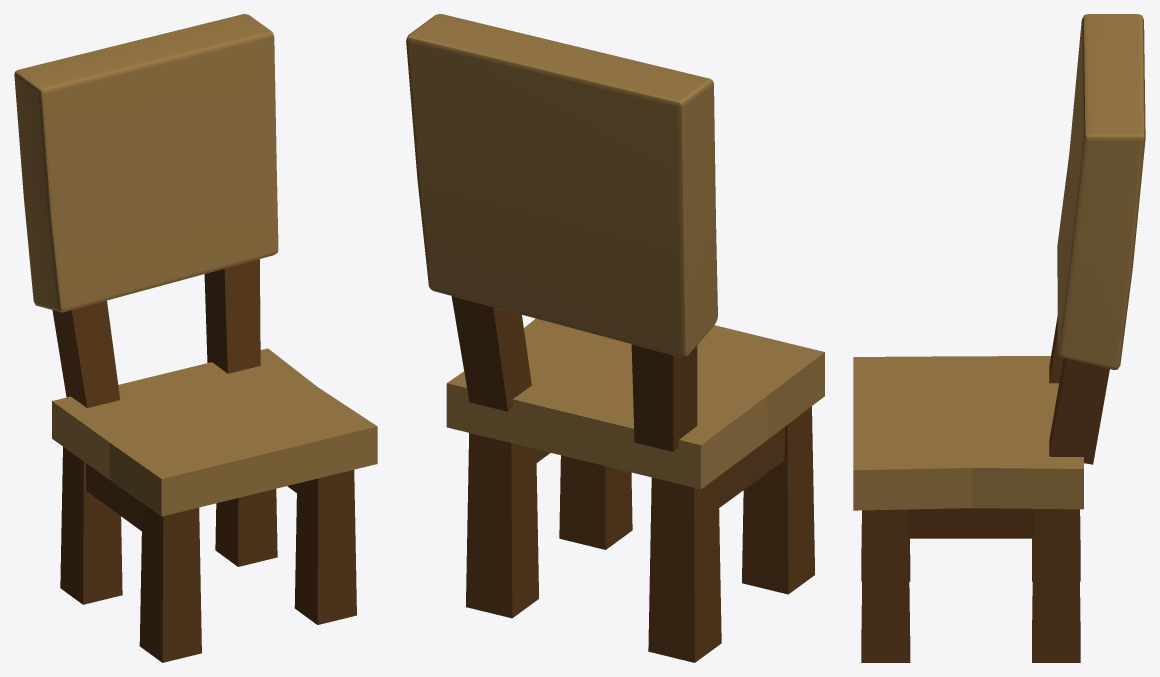
Rendered from Chair (2).fbx.
The picture shows the model from 3 angles, left to right: view 1: azimuth 30°, elevation 25°; view 2: azimuth 150°, elevation 25°; view 3: azimuth 270°, elevation 25°; orthographic projection. The views are drawn at different scales.
Parts seen in each view (by area): view 1: chair-wood; view 2: chair-wood; view 3: chair-wood.
Part boxes in pixels (left/top/right/bottom): chair-wood: left=14, top=14, right=377, bottom=662; chair-wood: left=406, top=14, right=824, bottom=662; chair-wood: left=853, top=14, right=1145, bottom=662.
Size of the model in its own units: 65.88 by 134 by 65.69.
